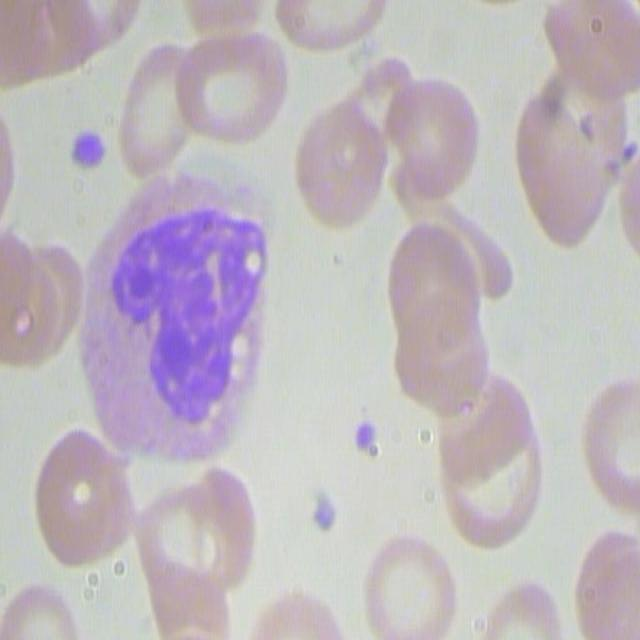RBC: (126, 448, 254, 632), (384, 202, 491, 416), (431, 362, 544, 550), (513, 65, 621, 246), (171, 15, 285, 151), (31, 432, 138, 570), (377, 67, 479, 209), (294, 98, 388, 230), (0, 220, 76, 375), (357, 528, 462, 637), (115, 43, 196, 182), (539, 1, 637, 106), (581, 369, 640, 514), (219, 577, 350, 640), (567, 525, 640, 638), (274, 0, 389, 59), (0, 580, 85, 640)
WBC: (86, 169, 270, 454)
platelets: (67, 125, 108, 175), (347, 413, 382, 461), (308, 494, 340, 540)
